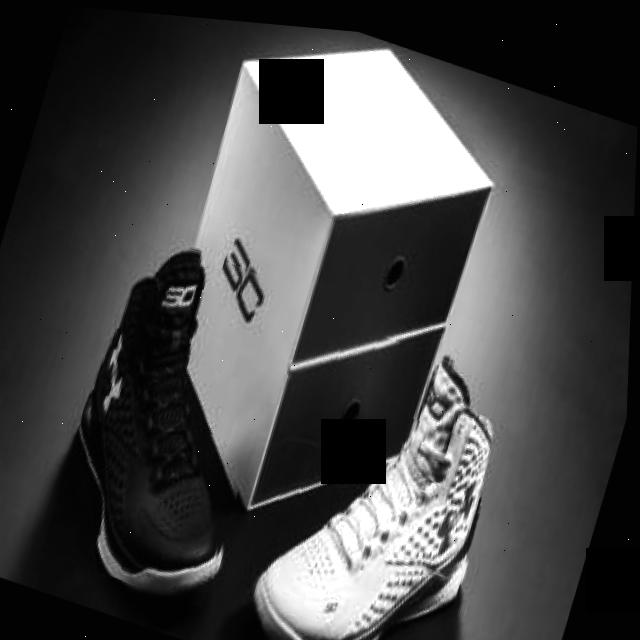shoe: (44, 220, 305, 610), (239, 304, 523, 640)
